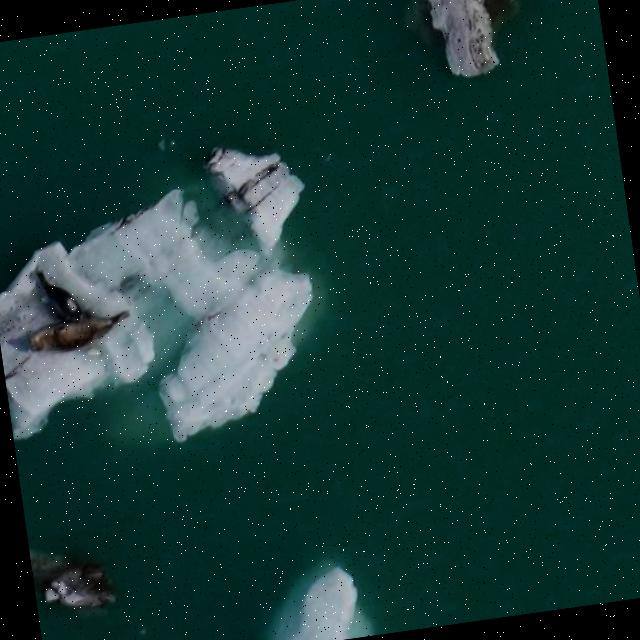seal: (27, 310, 130, 352), (38, 271, 80, 319)
